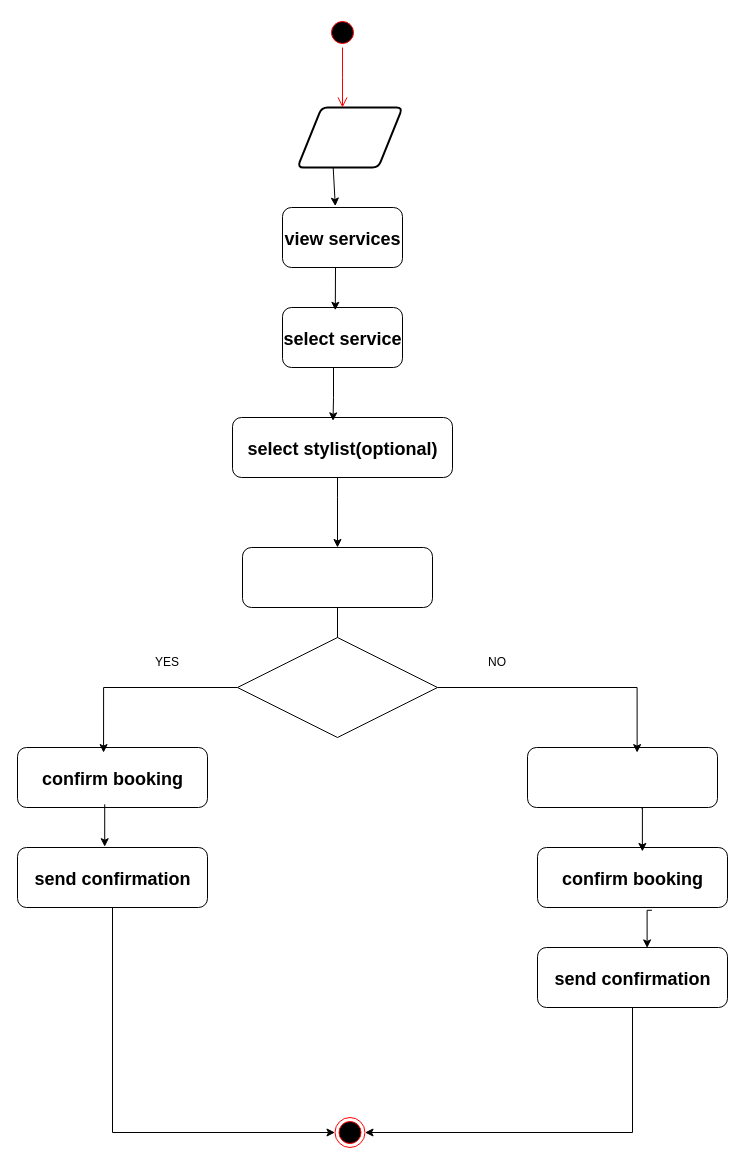
The diagram is 745 pixels wide and 1165 high, and some of its shapes have lost their labels. Each missing label, with the centre of its shape:
"client" belongs at (x=349, y=137).
"logged in?" belongs at (x=337, y=687).
"register/login" belongs at (x=622, y=777).
"select date and time" belongs at (x=337, y=577).
